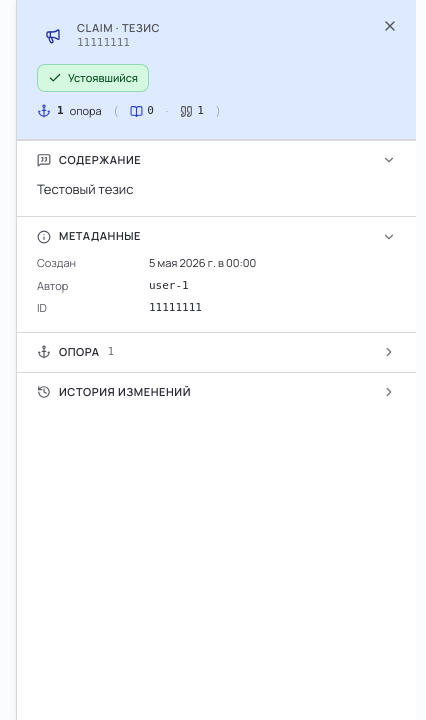
Test: NodeDetailsPanel › секция Опора › canWrite=false (гость): карточка опоры есть, но detach-× скрыт (FB-2)
Click the button "Опора 1" at (79, 352), box top-left (17, 333), bottom-right (416, 372)
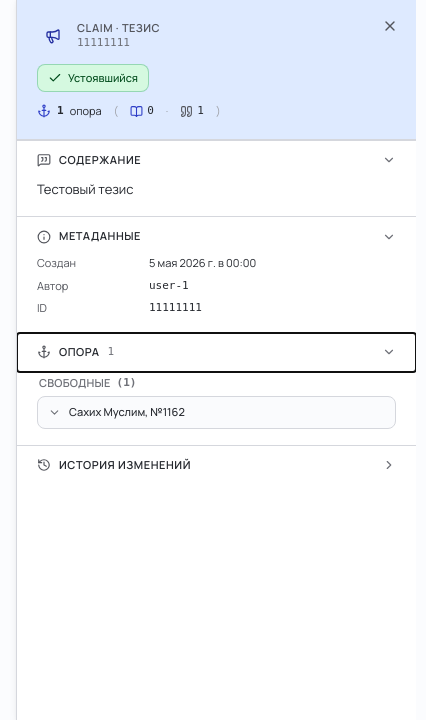
Expected: the text "Сахих Муслим, №1162" is shown, top-left (69, 405), bottom-right (185, 420)
